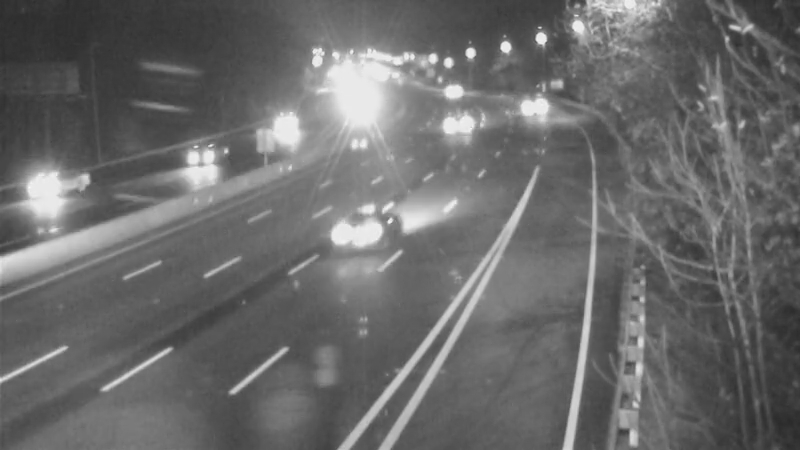vehicle: (324, 199, 404, 279), (154, 125, 234, 205), (1, 146, 80, 226), (428, 69, 478, 119), (507, 79, 557, 129), (434, 92, 484, 142), (255, 102, 305, 152)
